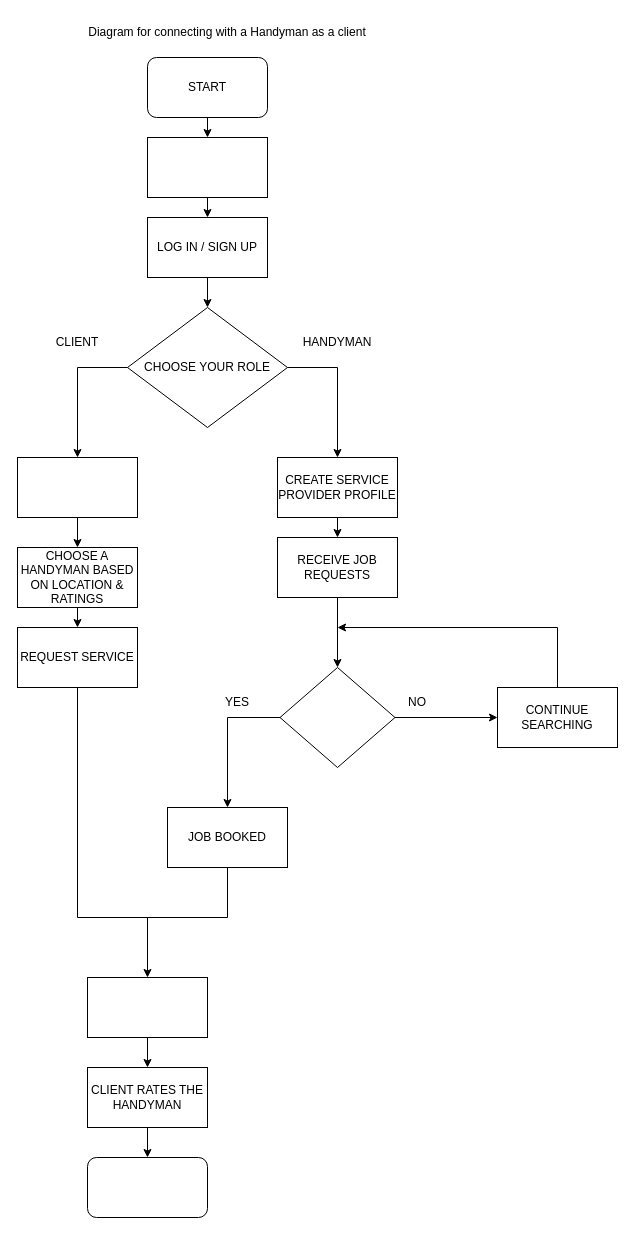
The diagram is 635 pixels wide and 1235 high, and some of its shapes have lost their labels. Here are the shapes that lost their labels. From the top down, the centre of each, then its label:
(207,167): OPEN THE APP
(77,487): SEARCH FOR A SERVICE
(337,717): ACCEPT JOB?
(147,1007): SERVICE IS COMPLETED
(147,1187): END
